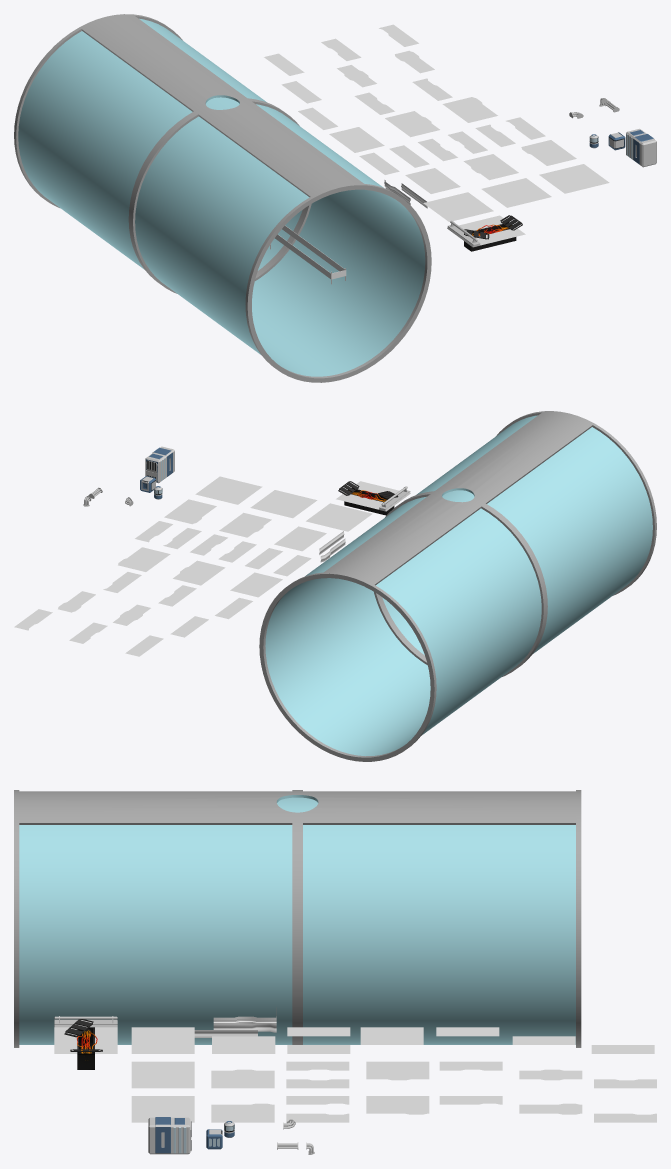
The picture shows the model from 3 angles, top to bottom: view 1: azimuth 30°, elevation 25°; view 2: azimuth 150°, elevation 25°; view 3: azimuth 270°, elevation 25°; orthographic projection. The views are drawn at different scales.
Visible parts, largest first — view 1: dome, platforms.002, platforms, platforms.001, box.001, warnnig_fencing, wire_obstacle, platforms.006, platforms.004, platforms.010, platforms.011, platforms.005 (+5 smaller); view 2: dome, platforms, platforms.002, platforms.001, box.001, wire_obstacle, platforms.006, platforms.004, platforms.005, platforms.011, platforms.010, platforms.003 (+4 smaller); view 3: dome, platforms.001, platforms, box.001, platforms.002, platforms.007, platforms.004, platforms.010, platforms.005, platforms.006, platforms.011, platforms.025 (+14 smaller).
Boxes of the visible parts, left/top/right/bottom form: dome: left=14, top=14, right=431, bottom=382; platforms.002: left=539, top=164, right=609, bottom=193; platforms: left=423, top=192, right=493, bottom=221; platforms.001: left=481, top=178, right=551, bottom=207; box.001: left=626, top=128, right=656, bottom=167; warnnig_fencing: left=275, top=225, right=346, bottom=284; wire_obstacle: left=464, top=215, right=522, bottom=251; platforms.006: left=359, top=145, right=429, bottom=174; platforms.004: left=463, top=154, right=518, bottom=180; platforms.010: left=385, top=111, right=439, bottom=137; platforms.011: left=442, top=97, right=497, bottom=122; platforms.005: left=521, top=140, right=576, bottom=165; dome: left=259, top=411, right=656, bottom=761; platforms: left=306, top=503, right=372, bottom=531; platforms.002: left=195, top=476, right=262, bottom=504; platforms.001: left=250, top=490, right=317, bottom=518; box.001: left=145, top=446, right=174, bottom=483; wire_obstacle: left=338, top=481, right=398, bottom=515; platforms.006: left=245, top=548, right=311, bottom=576; platforms.004: left=219, top=512, right=271, bottom=537; platforms.005: left=164, top=499, right=216, bottom=524; platforms.011: left=118, top=547, right=170, bottom=571; platforms.010: left=173, top=560, right=225, bottom=585; platforms.003: left=274, top=526, right=326, bottom=551; dome: left=14, top=790, right=581, bottom=1047; platforms.001: left=131, top=1061, right=194, bottom=1088; platforms: left=131, top=1027, right=194, bottom=1053; box.001: left=148, top=1117, right=191, bottom=1154; platforms.002: left=131, top=1096, right=194, bottom=1122; platforms.007: left=286, top=1061, right=349, bottom=1088; platforms.004: left=211, top=1069, right=274, bottom=1088; platforms.010: left=366, top=1061, right=429, bottom=1080; platforms.005: left=211, top=1103, right=274, bottom=1122; platforms.006: left=287, top=1027, right=350, bottom=1053; platforms.011: left=366, top=1096, right=429, bottom=1114; platforms.025: left=54, top=1027, right=117, bottom=1053.
Bounding box in the file's own units: 3205 × 1228 × 3060.
